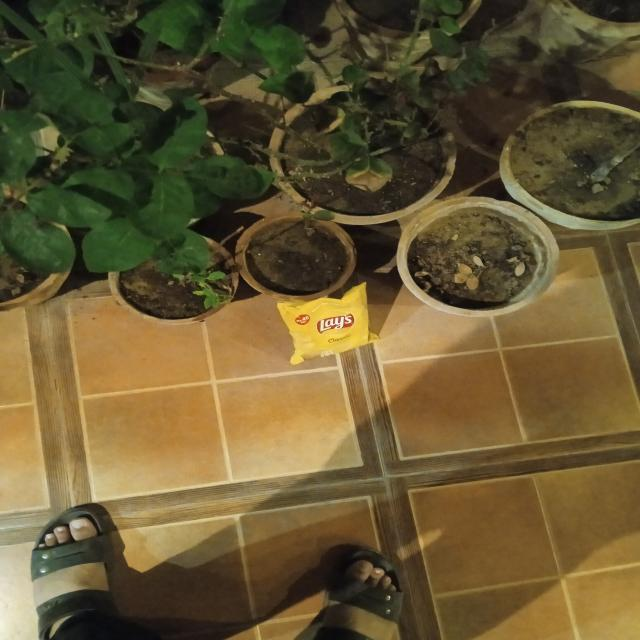Plastic: (273, 281, 380, 364)
